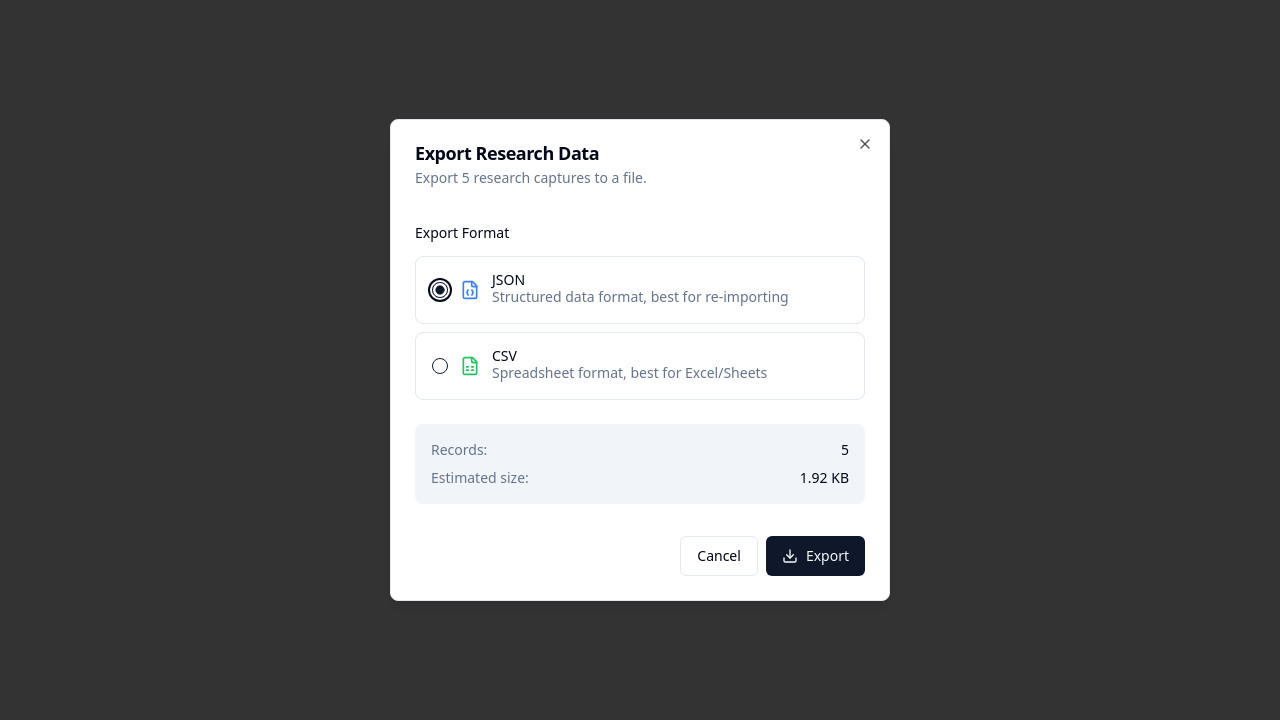
Test: ExportDialog › Export Progress and Status › should show progress bar during export
Click the button "Export" at (815, 556), box left=766, top=536, right=865, bottom=576
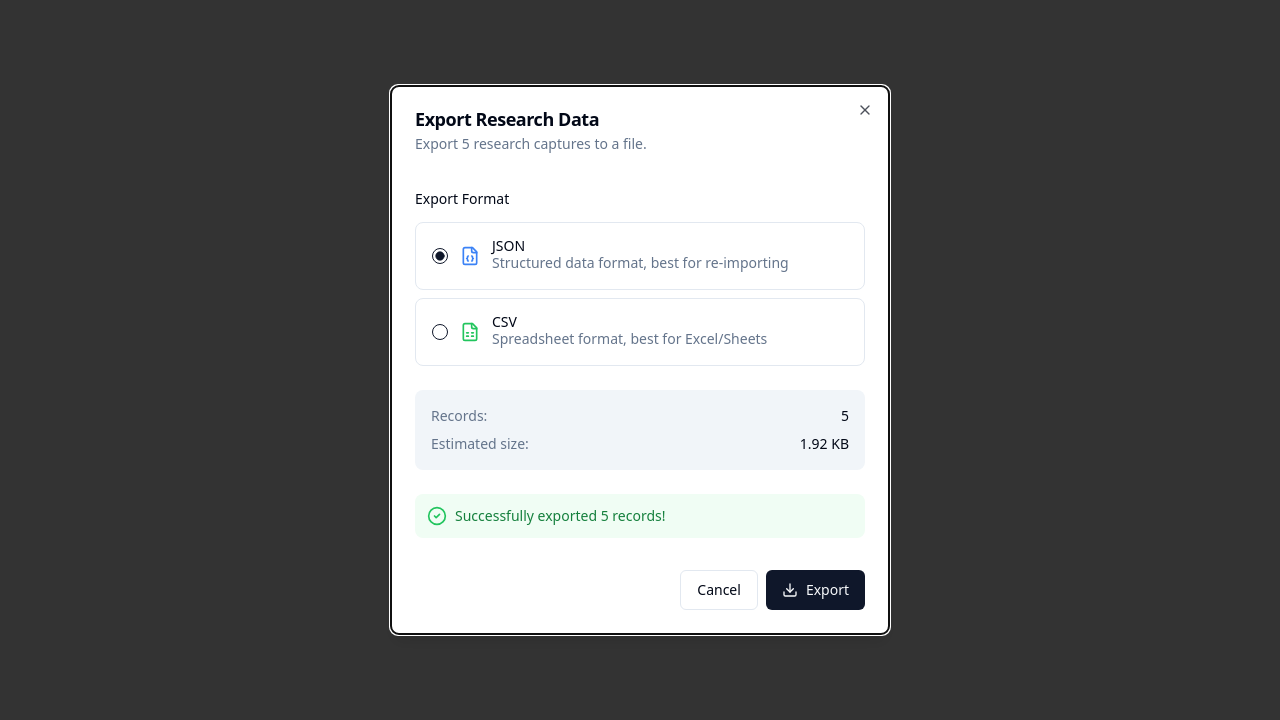
Result: the text "Exporting 5 records" is shown at left=455, top=506, right=666, bottom=526
